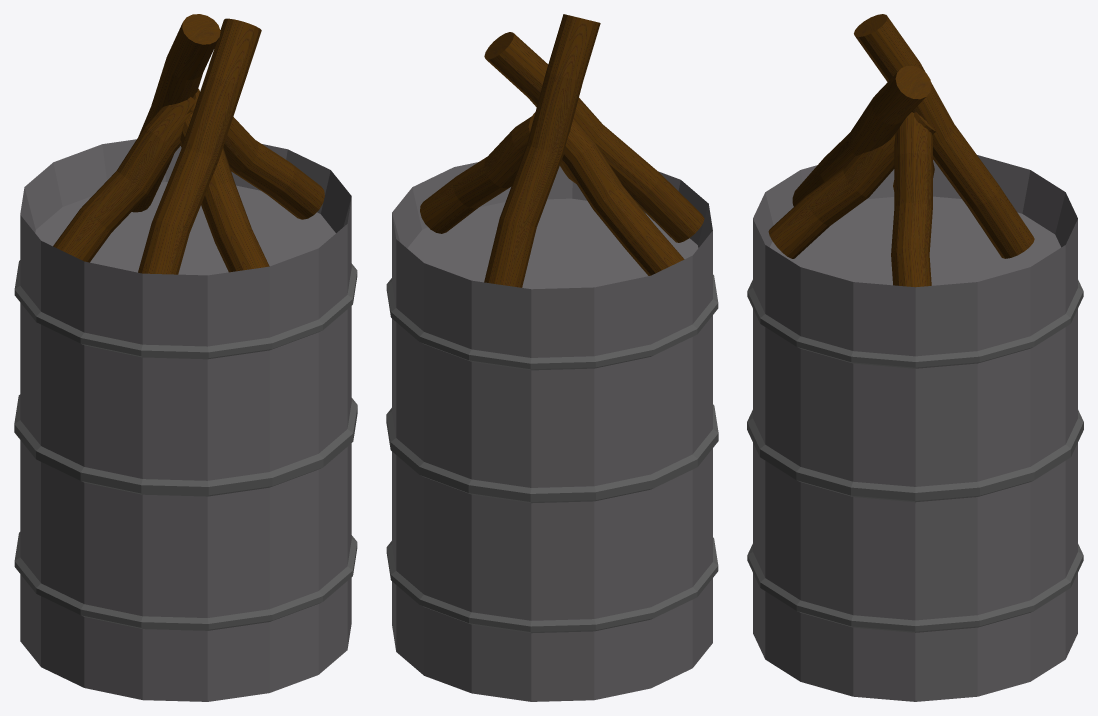
The model's file is butoi.fbx.
3 renders of one model, left to right at view 1: azimuth 30°, elevation 25°; view 2: azimuth 150°, elevation 25°; view 3: azimuth 270°, elevation 25°, orthographic. The views are drawn at different scales.
Visible parts, largest first — view 1: Cylinder, Cylinder.005; view 2: Cylinder, Cylinder.005; view 3: Cylinder, Cylinder.005.
Boxes of the visible parts, <box> form: Cylinder: <box>14,139,357,701</box>; Cylinder.005: <box>53,14,324,274</box>; Cylinder: <box>386,162,718,701</box>; Cylinder.005: <box>420,14,704,287</box>; Cylinder: <box>747,155,1083,701</box>; Cylinder.005: <box>768,14,1034,287</box>.
Size of the model in its own units: 2.06 by 4.13 by 2.06.
